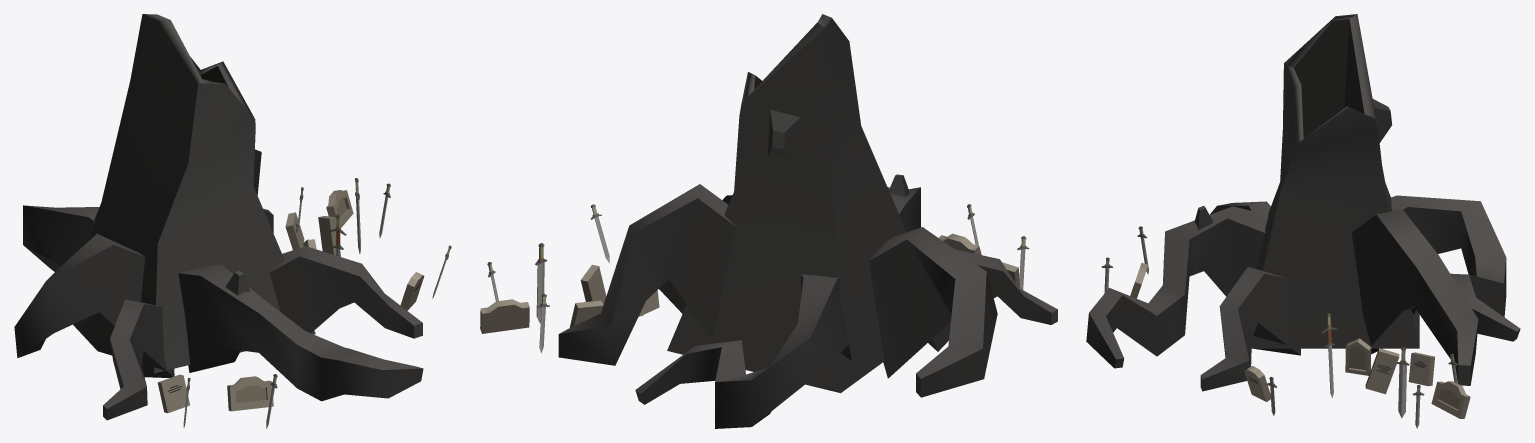
Rendered from SF_Env_Undead_Preset_01.fbx.
3 views of the same model, side by side, from view 1: azimuth 30°, elevation 25°; view 2: azimuth 150°, elevation 25°; view 3: azimuth 270°, elevation 25° (orthographic). The views are drawn at different scales.
Parts seen in each view (by area): view 1: SF_Env_Undead_Preset_01; view 2: SF_Env_Undead_Preset_01; view 3: SF_Env_Undead_Preset_01.
Boxes of the visible parts, x1,y1,x2,y2 form: SF_Env_Undead_Preset_01: (14,14,451,428); SF_Env_Undead_Preset_01: (480,14,1057,428); SF_Env_Undead_Preset_01: (1086,14,1520,428).
Bounding box in the file's own units: 18.36 × 13.55 × 17.72.
